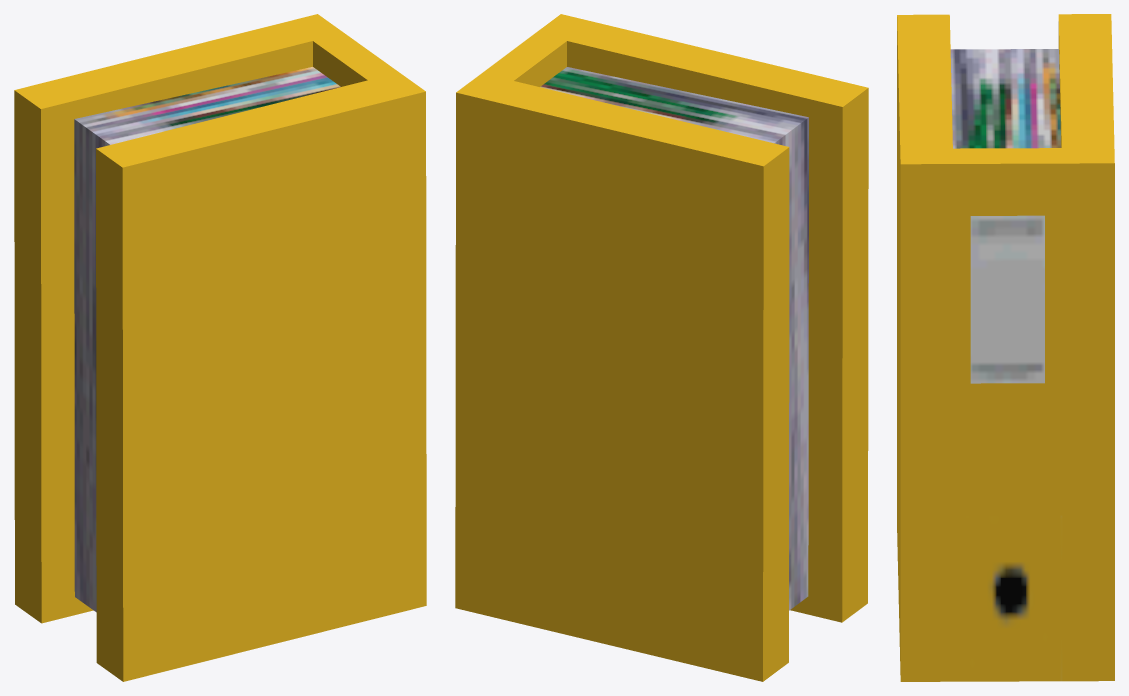
Rendered from object_32_lev1.glb.
3 renders of one model, left to right at view 1: azimuth 30°, elevation 25°; view 2: azimuth 150°, elevation 25°; view 3: azimuth 270°, elevation 25°, orthographic.
Visible parts, largest first — view 1: object_32_lev1; view 2: object_32_lev1; view 3: object_32_lev1.
Part boxes in pixels (x1=…): object_32_lev1: x1=14, y1=14, x2=426, y2=681; object_32_lev1: x1=455, y1=14, x2=868, y2=681; object_32_lev1: x1=897, y1=14, x2=1114, y2=681.
Bounding box in the file's own units: 0.2135 × 0.3414 × 0.1301.
1 material, 1 textured.
